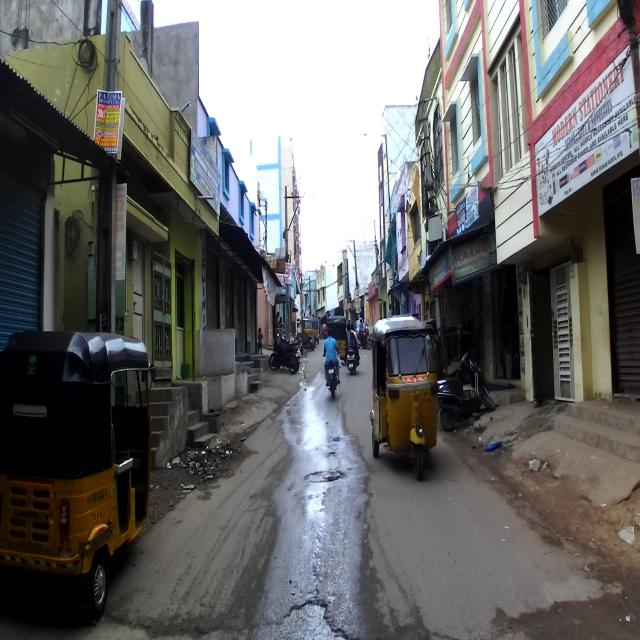autorickshaw: (0, 331, 156, 618), (369, 315, 439, 479)
scooter: (433, 348, 496, 432)
